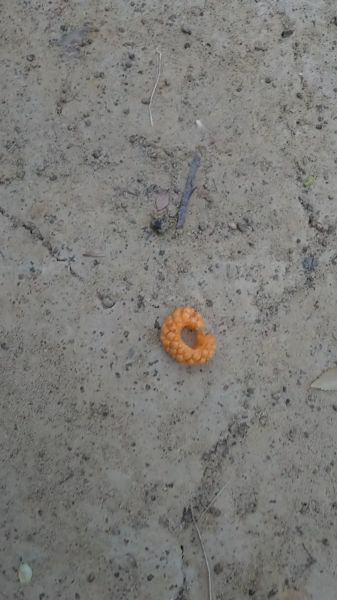eggs: (163, 302, 220, 371)
